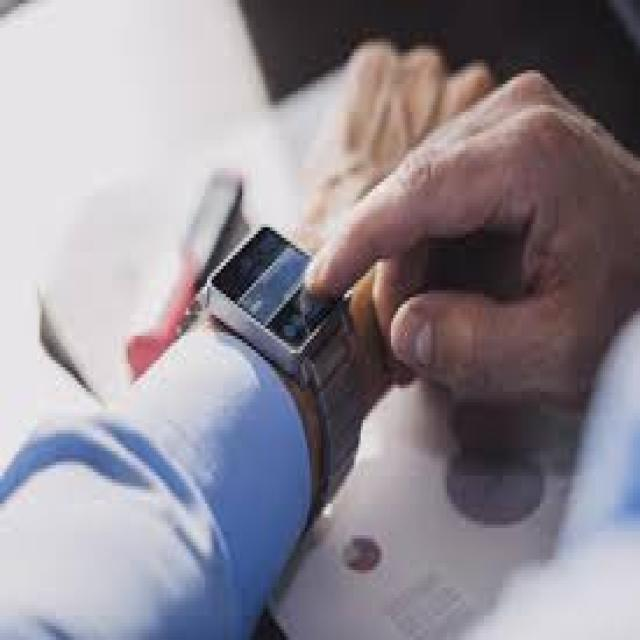objects: (192, 205, 375, 400)
